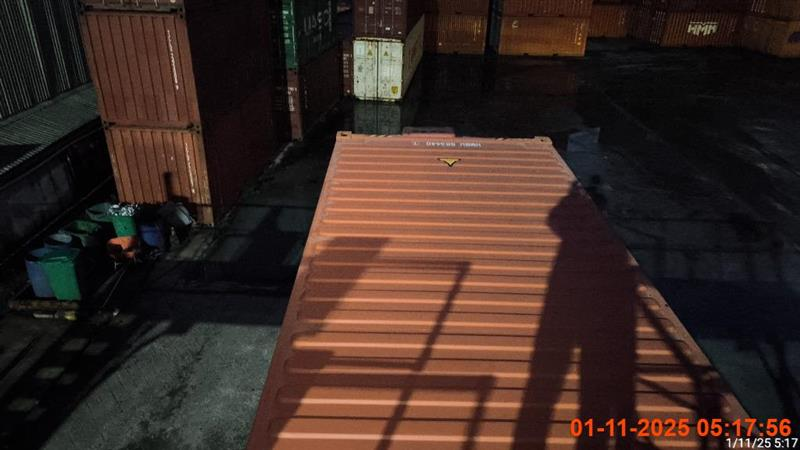broken: (244, 127, 748, 443)
